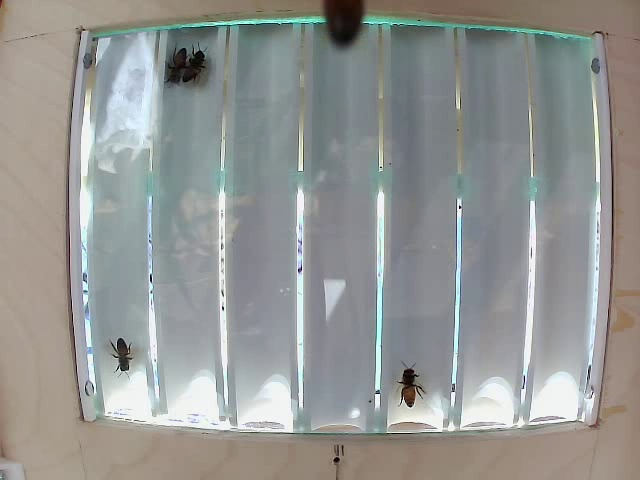bee: (159, 39, 193, 87), (182, 46, 216, 91), (399, 365, 429, 414), (106, 332, 130, 377)
